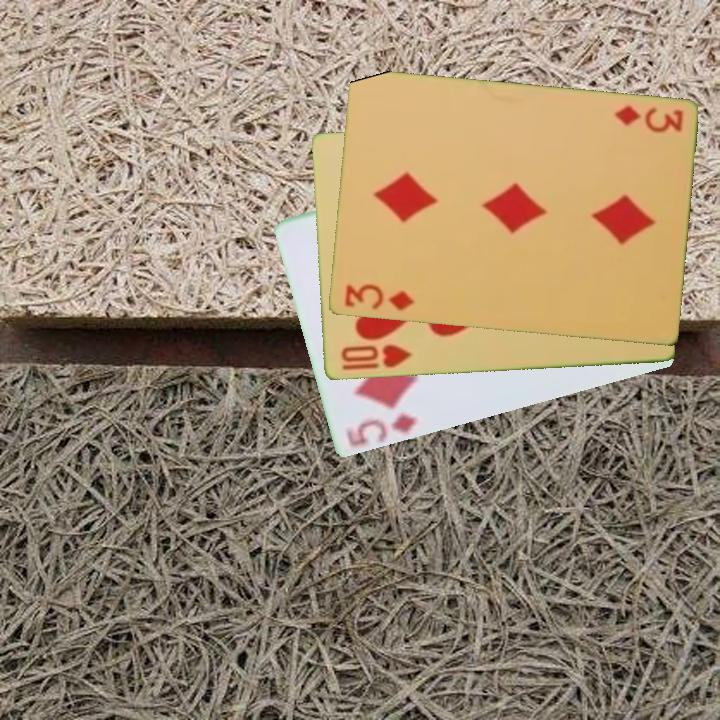10h: (337, 341, 415, 371)
3d: (340, 281, 416, 314), (610, 102, 686, 135)
5d: (346, 409, 420, 450)
